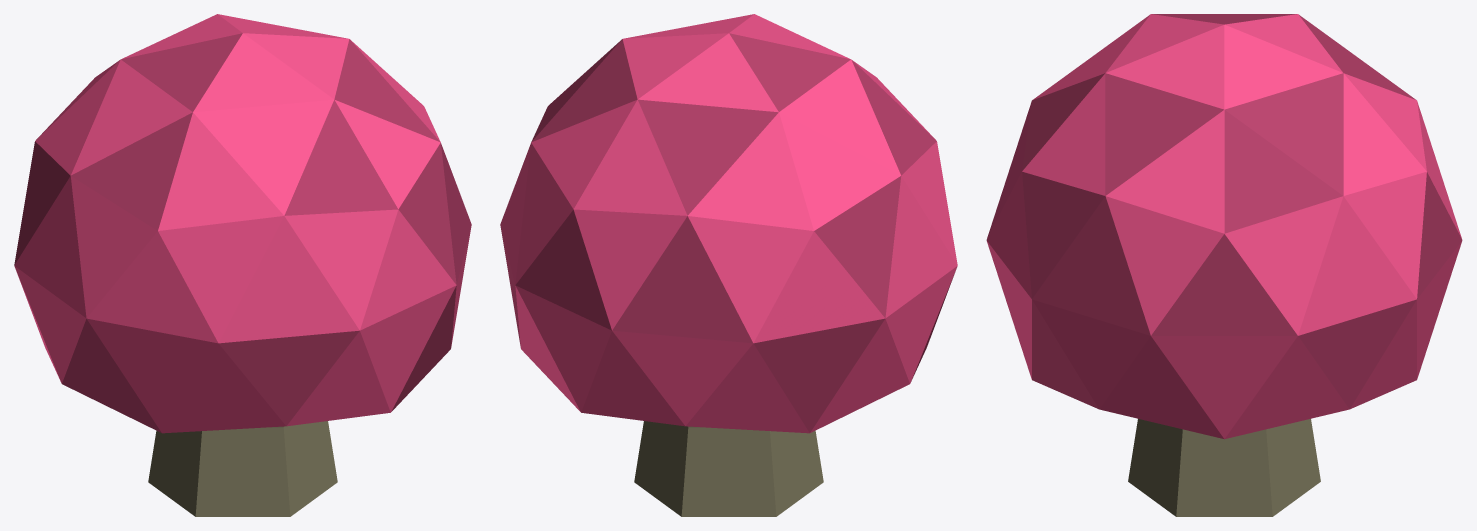
Rendered from Mushroom_1_Pink.fbx.
3 views of the same model, side by side, from view 1: azimuth 30°, elevation 25°; view 2: azimuth 150°, elevation 25°; view 3: azimuth 270°, elevation 25° (orthographic).
Visible parts, largest first — view 1: Mushroom_1_Pink; view 2: Mushroom_1_Pink; view 3: Mushroom_1_Pink.
Part boxes in pixels (x1,y1,x2,y2): Mushroom_1_Pink: (14, 14, 471, 516); Mushroom_1_Pink: (500, 14, 957, 516); Mushroom_1_Pink: (986, 14, 1462, 516).
Bounding box in the file's own units: 46.91 × 52.26 × 49.33.
